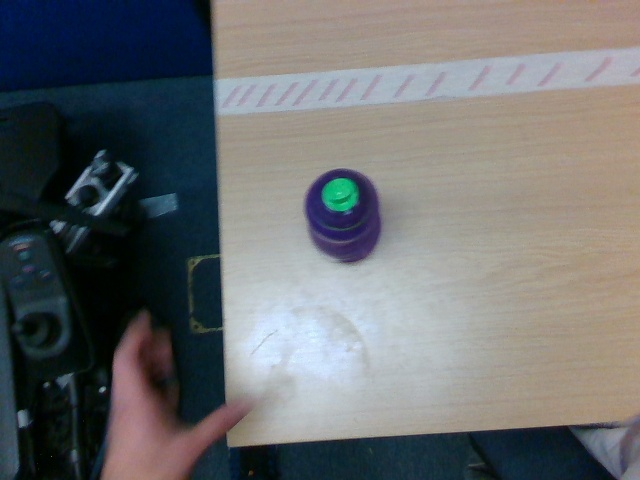book: (306, 169, 380, 264)
